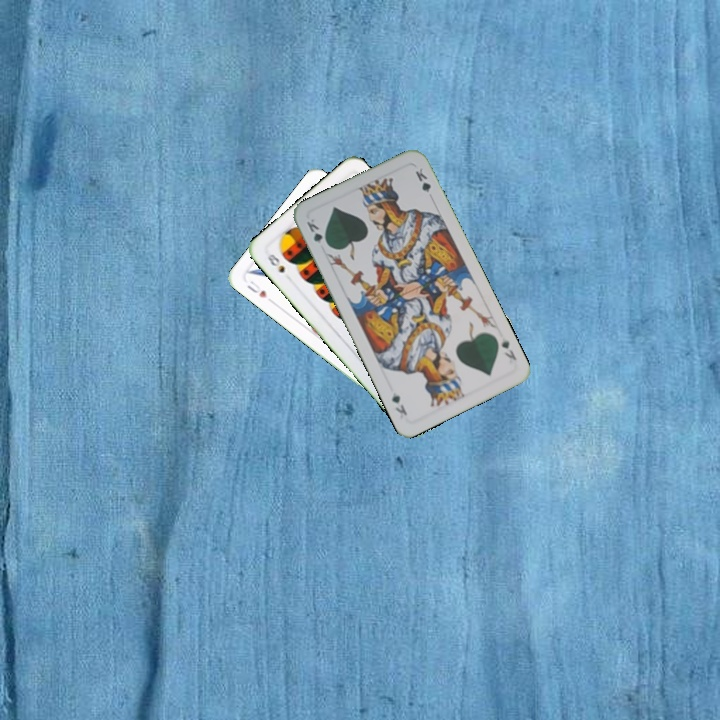GK: (302, 214, 331, 250), (497, 335, 519, 363)
HU: (243, 276, 270, 301)
S8: (263, 250, 287, 276)
